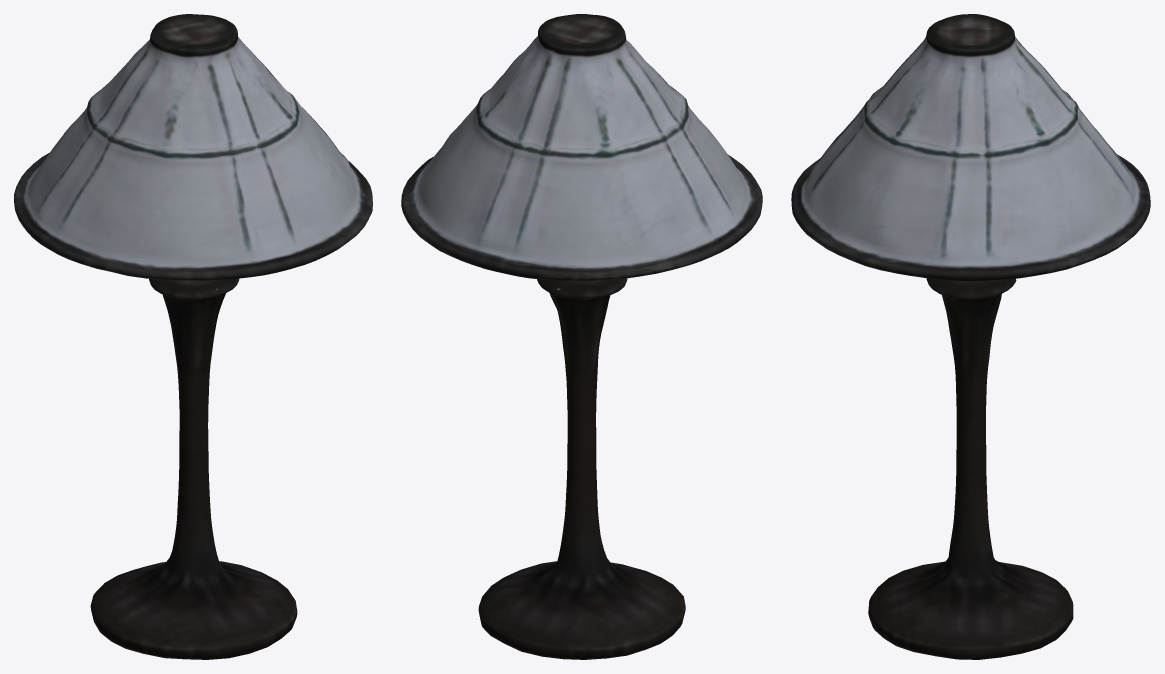
The model's file is 63d5d1a37d7e_table_lamp__3d_asse.fbx.
The picture shows the model from 3 angles, left to right: view 1: azimuth 30°, elevation 25°; view 2: azimuth 150°, elevation 25°; view 3: azimuth 270°, elevation 25°; orthographic projection.
Parts seen in each view (by area): view 1: mesh; view 2: mesh; view 3: mesh.
Boxes of the visible parts, <box> form: mesh: <box>14,14,372,659</box>; mesh: <box>401,14,762,659</box>; mesh: <box>791,14,1150,659</box>.
Bounding box in the file's own units: 55.28 × 99.96 × 55.22.
